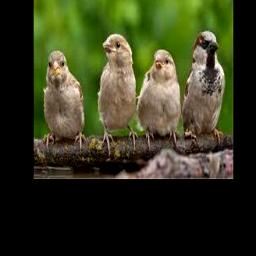Sparrow: (182, 30, 226, 145), (98, 34, 138, 154), (43, 50, 86, 153), (137, 49, 181, 144)
